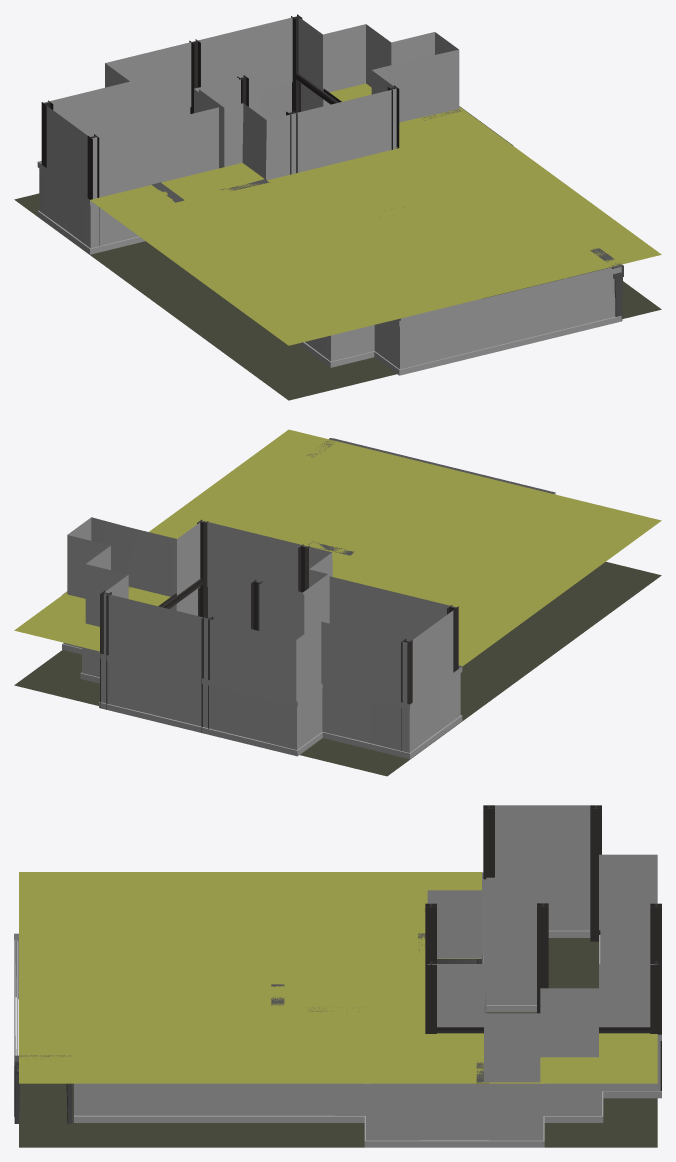
The model's file is Nuclear_Level.fbx.
The picture shows the model from 3 angles, top to bottom: view 1: azimuth 30°, elevation 25°; view 2: azimuth 150°, elevation 25°; view 3: azimuth 270°, elevation 25°; orthographic projection. The views are drawn at different scales.
Visible parts, largest first — view 1: Ceiling, Walls, Floor, Beam.004, Door_Frame_EXT.003, Beam.006, Beam.001; view 2: Walls, Ceiling, Floor, Beam.003, Beam.004, Beam.007; view 3: Ceiling, Walls, Floor, Beam.007, Beam, Beam.004, Beam.006, Beam.003, Door_Frame_EXT.003, Beam.001, Beam.002, Beam.005.
Boxes of the visible parts, bbox=[...] form: Ceiling: bbox=[90, 83, 661, 345]; Walls: bbox=[37, 16, 621, 375]; Floor: bbox=[14, 193, 661, 400]; Beam.004: bbox=[291, 14, 302, 112]; Door_Frame_EXT.003: bbox=[590, 248, 623, 320]; Beam.006: bbox=[87, 134, 99, 245]; Beam.001: bbox=[189, 39, 200, 113]; Walls: bbox=[62, 438, 555, 759]; Ceiling: bbox=[14, 429, 661, 666]; Floor: bbox=[14, 562, 661, 776]; Beam.003: bbox=[197, 519, 208, 617]; Beam.004: bbox=[100, 590, 111, 709]; Beam.007: bbox=[401, 639, 412, 750]; Ceiling: bbox=[19, 872, 657, 1083]; Walls: bbox=[14, 805, 661, 1147]; Floor: bbox=[19, 938, 657, 1147]; Beam.007: bbox=[590, 805, 601, 941]; Beam: bbox=[537, 903, 548, 1013]; Beam.004: bbox=[650, 961, 661, 1090]; Beam.006: bbox=[483, 805, 494, 879]; Beam.003: bbox=[425, 961, 436, 1033]; Door_Frame_EXT.003: bbox=[14, 1055, 72, 1123]; Beam.001: bbox=[650, 903, 661, 961]; Beam.002: bbox=[425, 903, 436, 961]; Beam.005: bbox=[437, 1027, 650, 1033].
Size of the model in its own units: 1712 by 500 by 2212.
